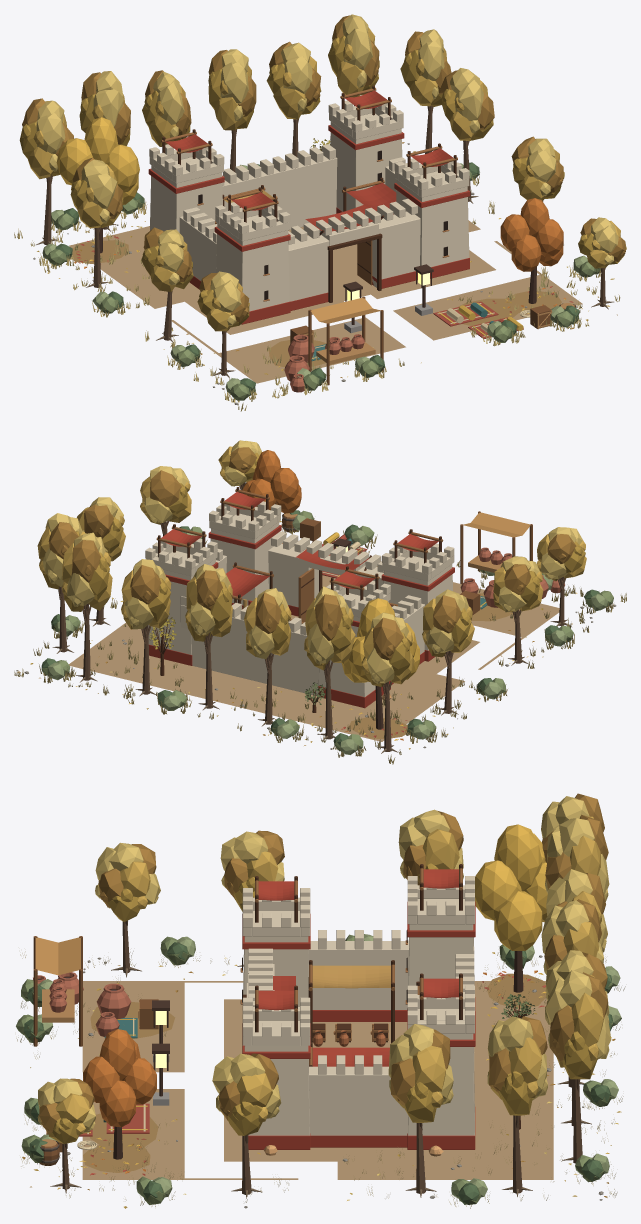
The model's file is panti.glb.
The picture shows the model from 3 angles, top to bottom: view 1: azimuth 30°, elevation 25°; view 2: azimuth 150°, elevation 25°; view 3: azimuth 270°, elevation 25°; orthographic projection. The views are drawn at different scales.
Parts seen in each view (by area): view 1: panti; view 2: panti; view 3: panti.
Boxes of the visible parts, x1=… form: panti: x1=14, y1=14, x2=626, y2=411; panti: x1=14, y1=440, x2=626, y2=764; panti: x1=16, y1=793, x2=625, y2=1208.
Bounding box in the file's own units: 7.85 × 2.75 × 7.81.
